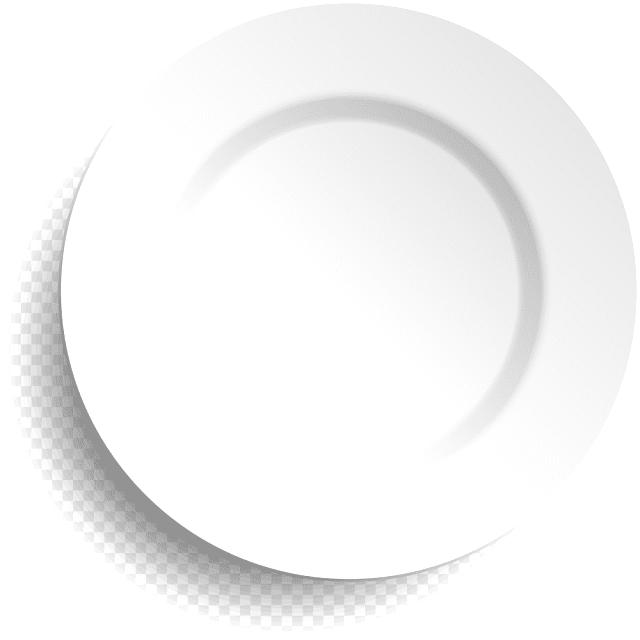Piring: (50, 0, 639, 591)
